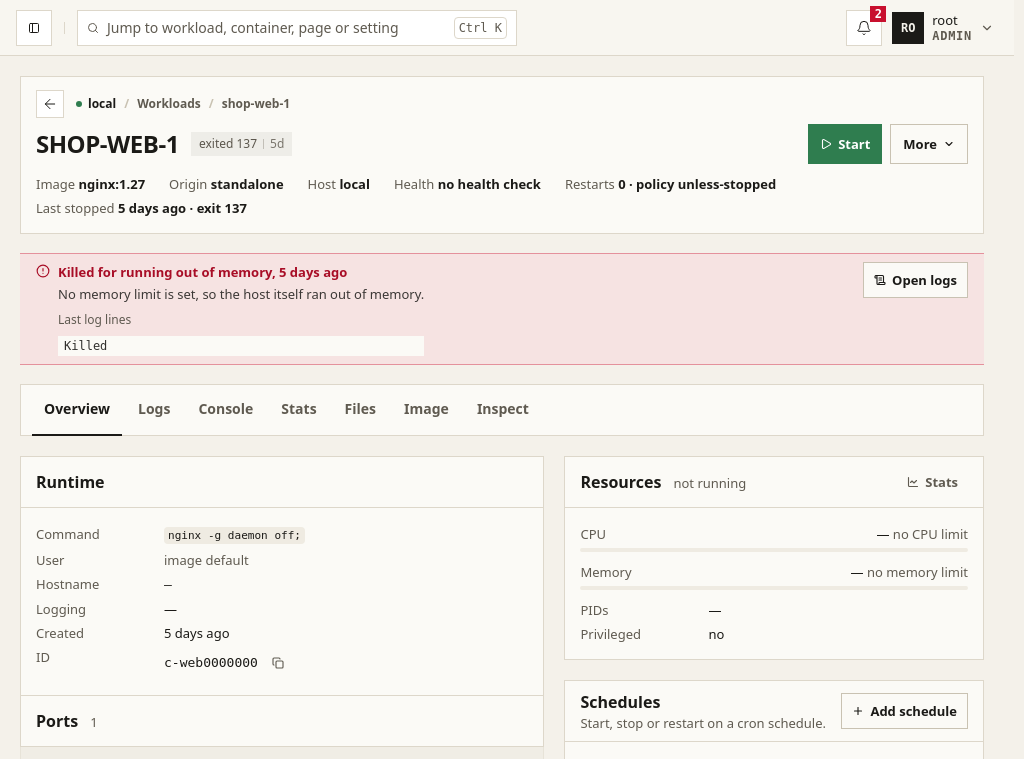
Test: container detail › explains a crashed container and starts it again
This screenshot has width=1024, height=759.
Expected: the heading "shop-web-1" is shown, [36, 128, 179, 160]
Click the button "Start" at (845, 144), box [808, 124, 882, 164]
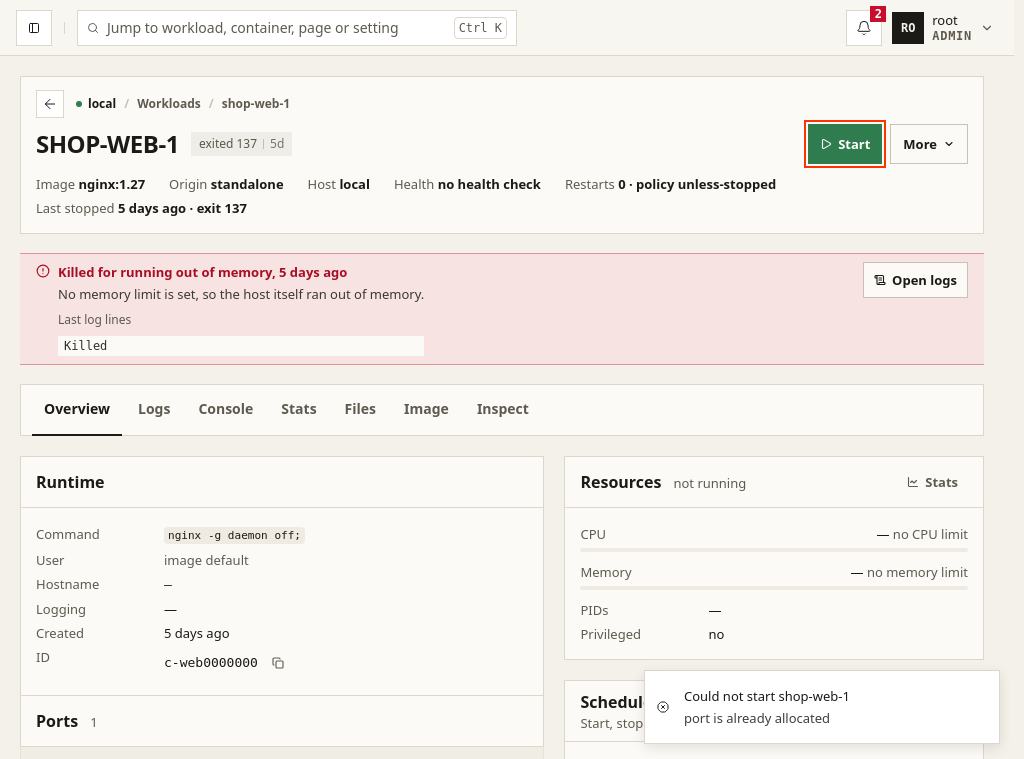
Expected: the text "port is already allocated" is shown, [684, 709, 850, 727]
